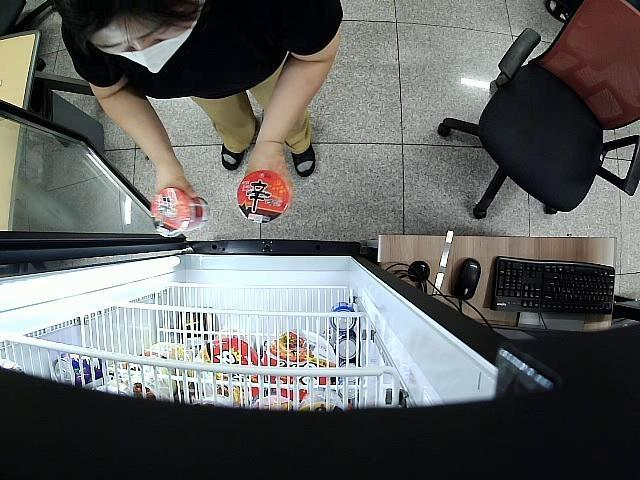02_shinRamen_S: (150, 189, 210, 238), (236, 172, 288, 224)
